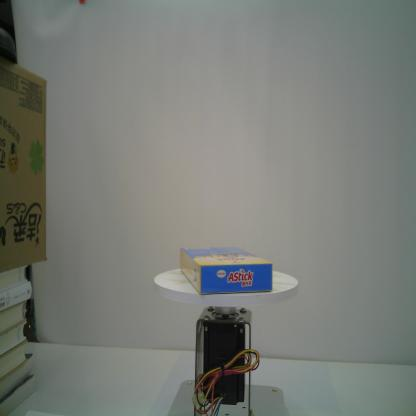Dessert: (178, 243, 276, 297)
